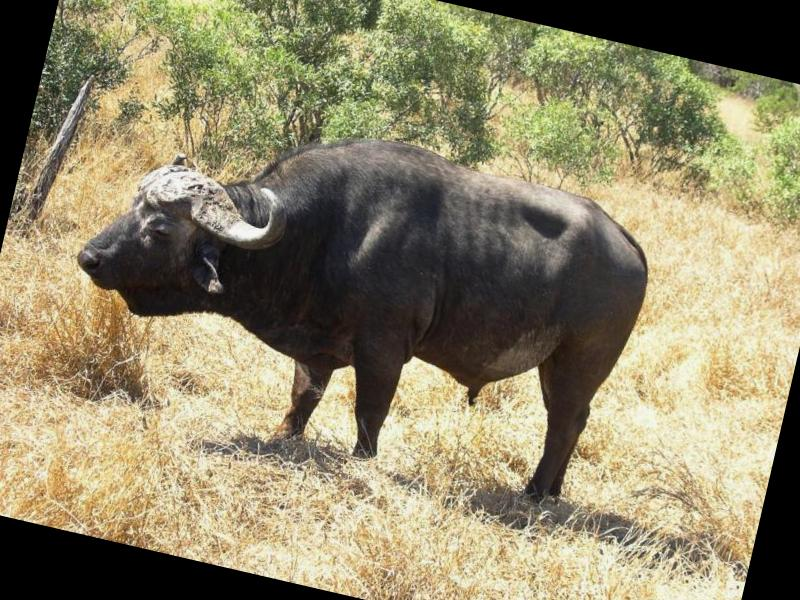Buffalo: (46, 49, 690, 555)
